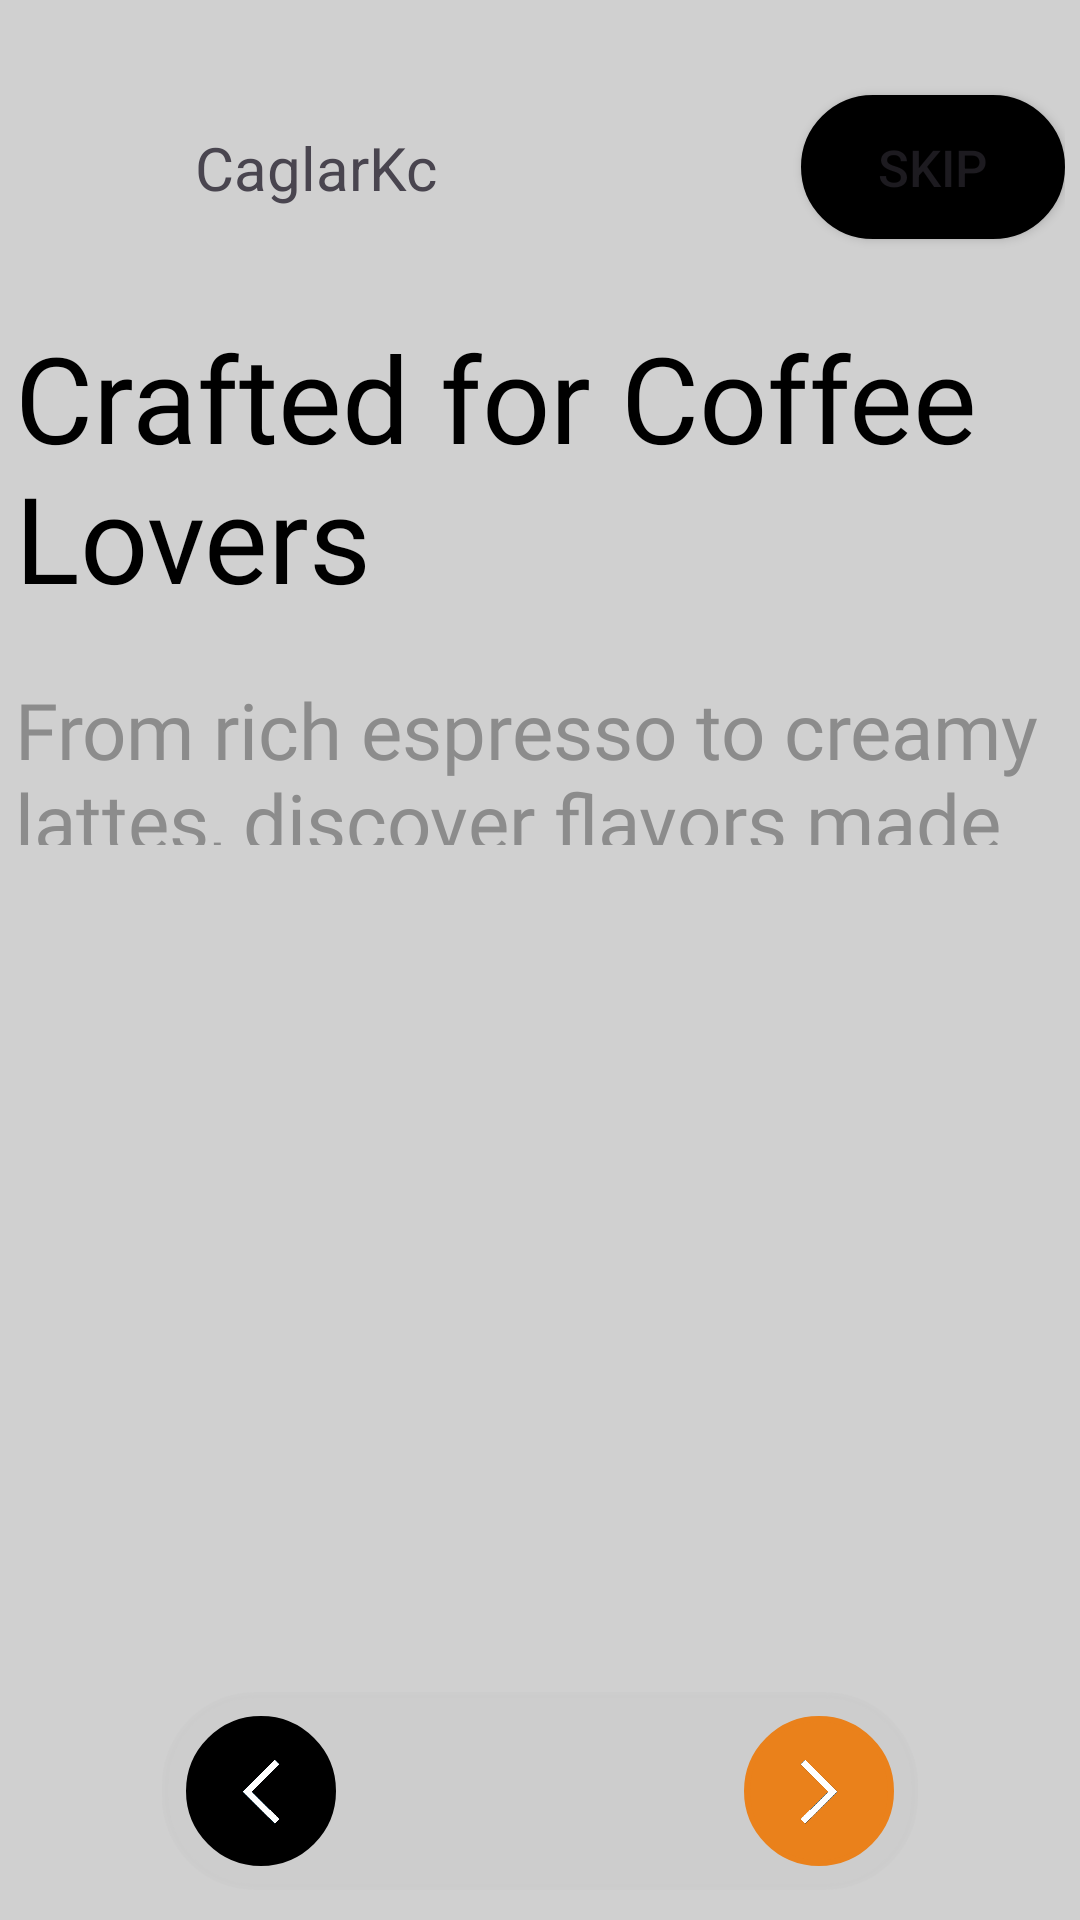

Screen size 1080px×1920px. Icon name, then its center in pixels as (x,y):
back left: (261,1791)
next right: (819,1791)
